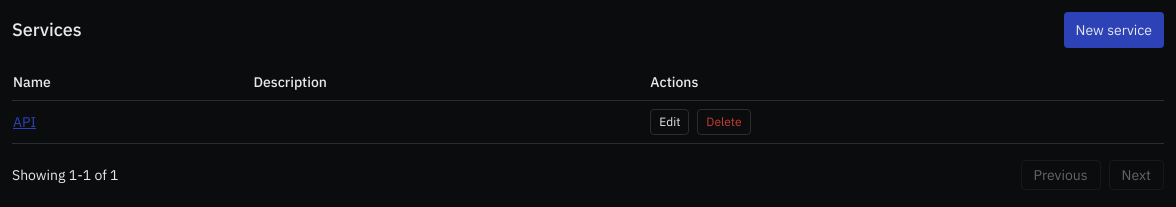
ServicesListPage › removes a service from the list after a successful delete
expect the link "API" is shown: met, box x1=13 y1=113 x2=36 y2=131
Click the button "Delete" at (724, 122), box x1=697 y1=109 x2=751 y2=135
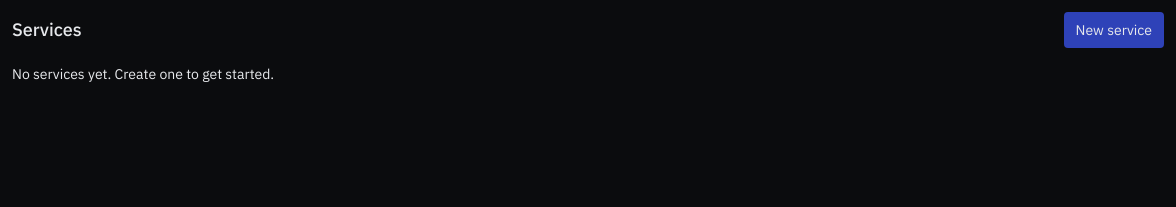
expect the text "No services yet. Create one to get started." is shown: met, box x1=12 y1=65 x2=274 y2=83
